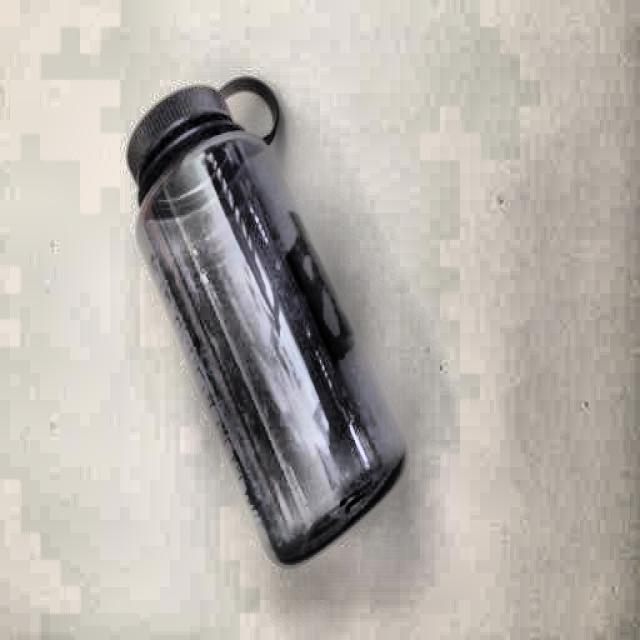plastic: (123, 76, 411, 570)
